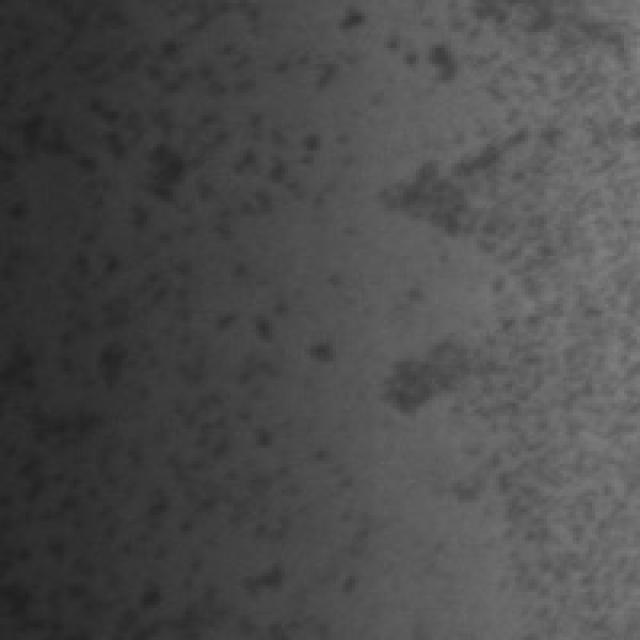pitted_surface: (22, 3, 356, 611), (384, 3, 630, 608)
